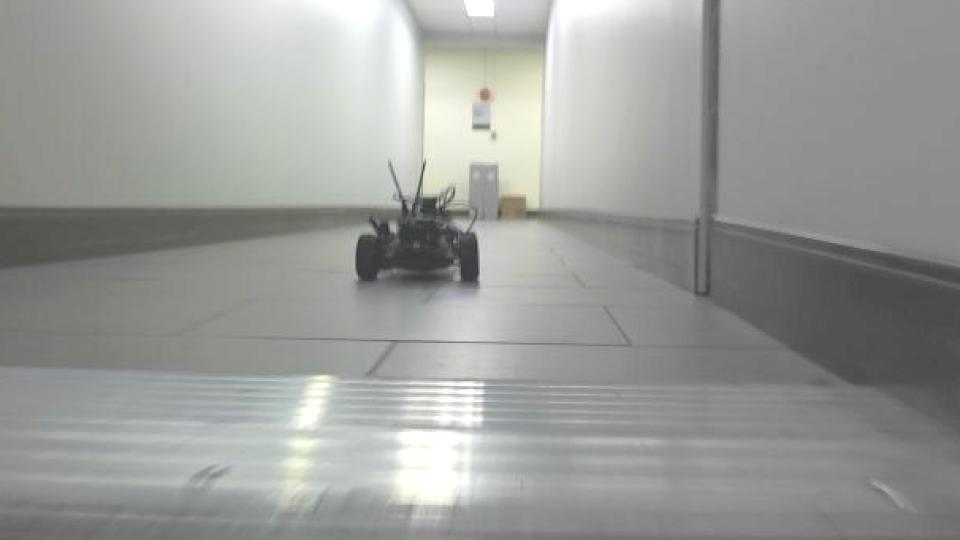car: (350, 156, 483, 288)
